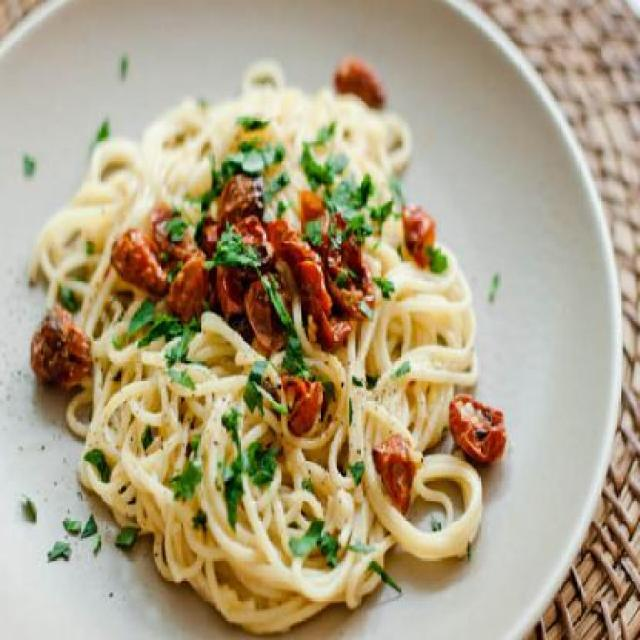Oil pasta: (46, 78, 512, 640)
